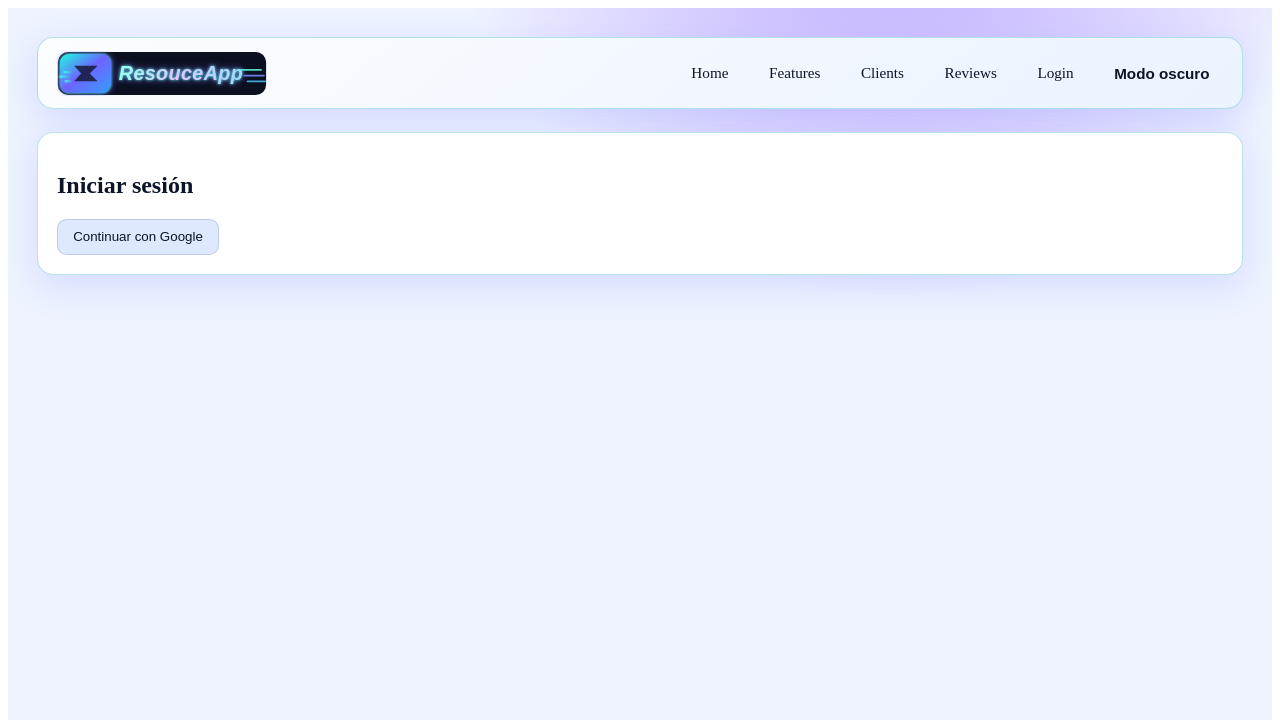
App Home/Login/Projects flow › logs in with google and stores session
This screenshot has width=1280, height=720.
Step 1. Click the button "Continuar con Google" → {"x": 138, "y": 237}, box [57,219,219,255]
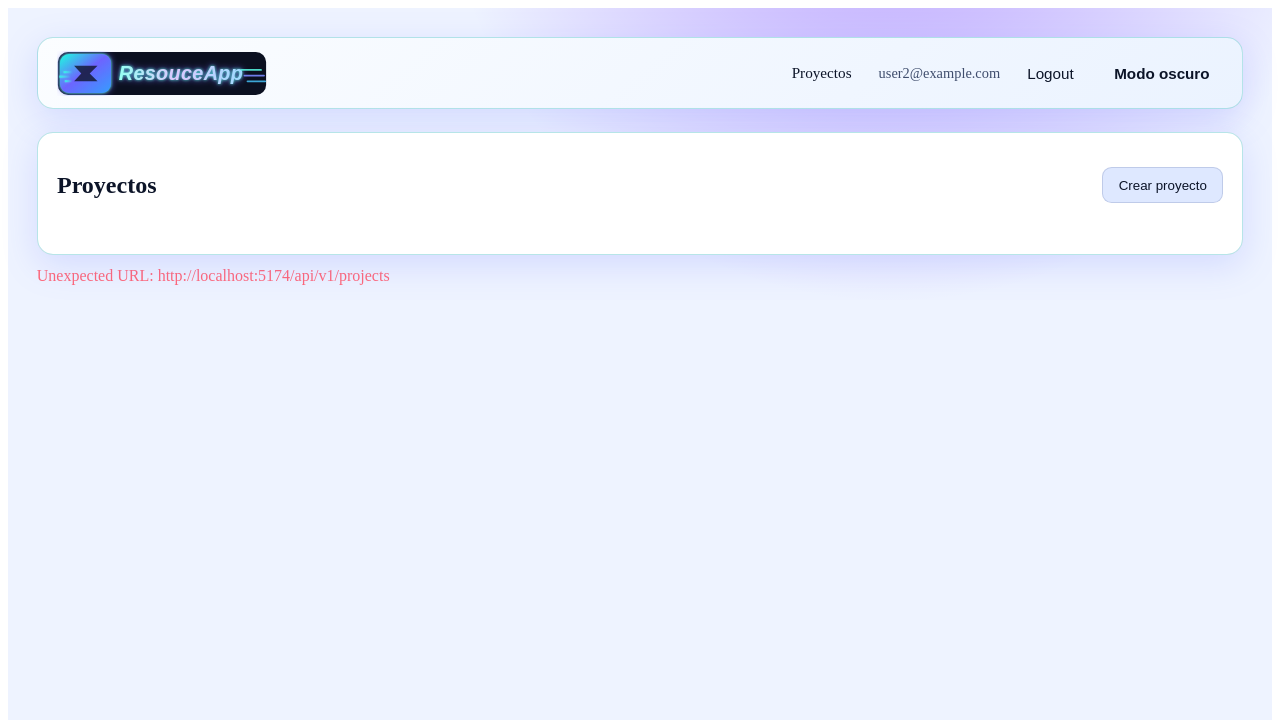
Now the heading "Proyectos" is shown, box [57,172,156,199]
